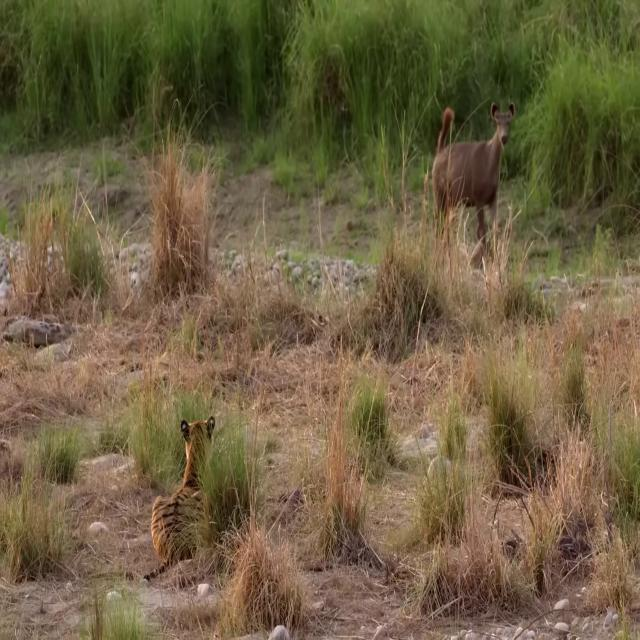tiger: (142, 415, 215, 582)
